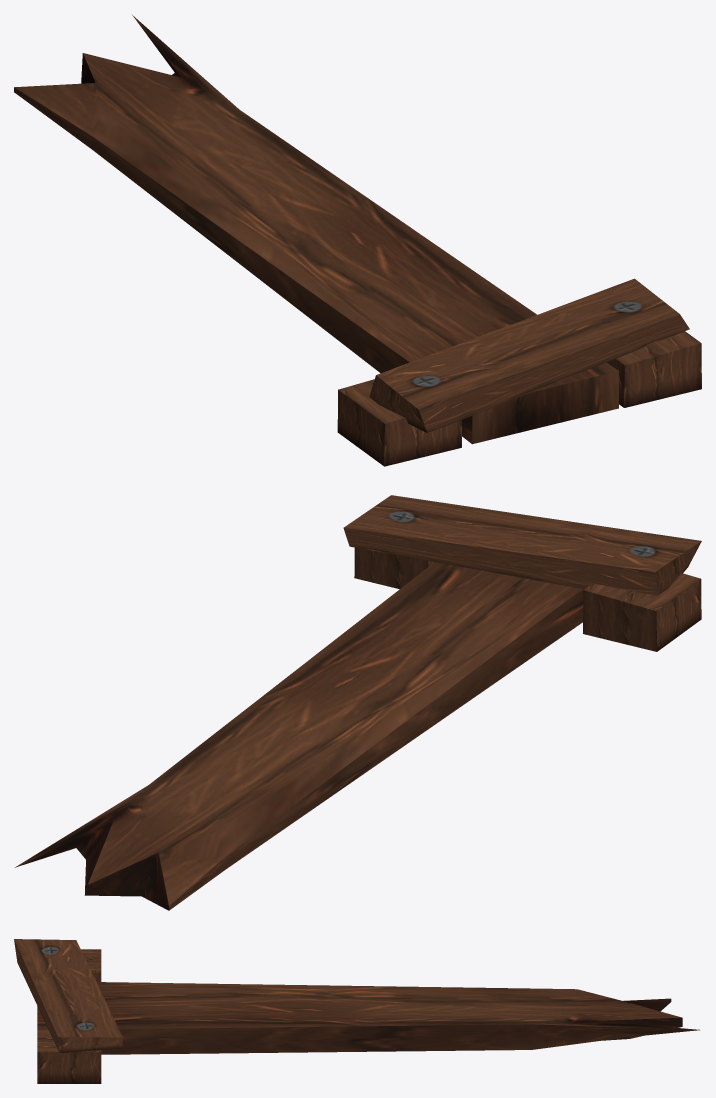
The model's file is Ponte.fbx.
3 renders of one model, top to bottom at view 1: azimuth 30°, elevation 25°; view 2: azimuth 150°, elevation 25°; view 3: azimuth 270°, elevation 25°, orthographic. The views are drawn at different scales.
Visible parts, largest first — view 1: pCube7; view 2: pCube7; view 3: pCube7.
Part boxes in pixels (x1=…): pCube7: x1=14, y1=15, x2=701, y2=466; pCube7: x1=14, y1=495, x2=701, y2=910; pCube7: x1=14, y1=939, x2=699, y2=1083.
Size of the model in its own units: 2.19 by 0.4279 by 5.95.
